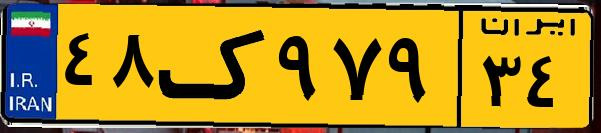3: (475, 38, 525, 113)
4: (57, 26, 110, 100), (525, 38, 570, 115)
7: (330, 28, 385, 110)
8: (110, 28, 158, 98)
9: (270, 28, 330, 110), (385, 28, 445, 110)
ک: (158, 12, 270, 120)
